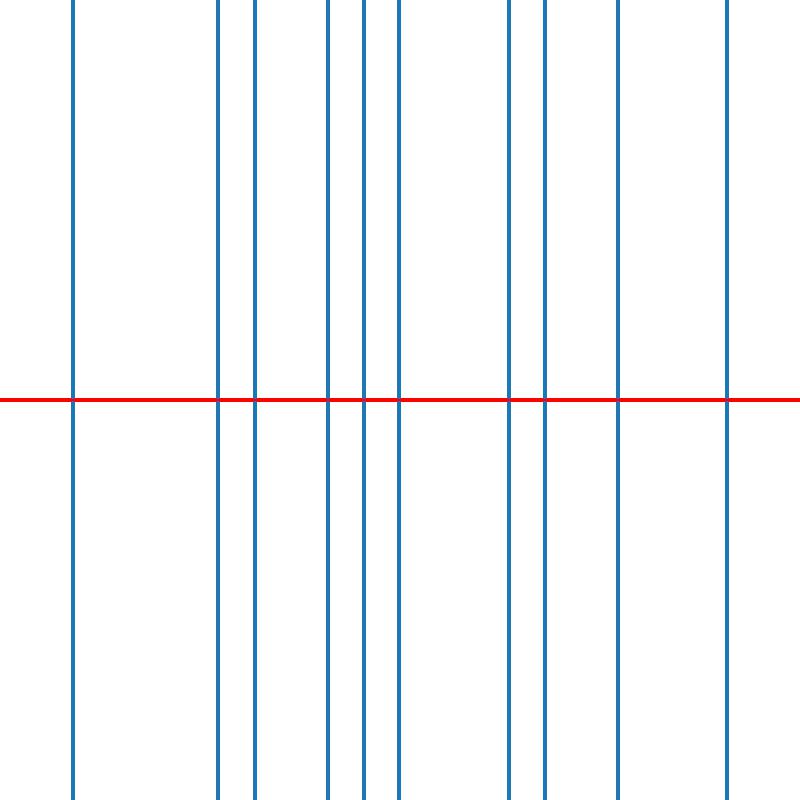root: (250, 396, 258, 404), (541, 396, 549, 404), (396, 396, 403, 404), (360, 396, 367, 404), (214, 396, 221, 404), (323, 396, 330, 404), (614, 396, 621, 404), (505, 396, 512, 404), (723, 396, 730, 404), (69, 396, 76, 404)
